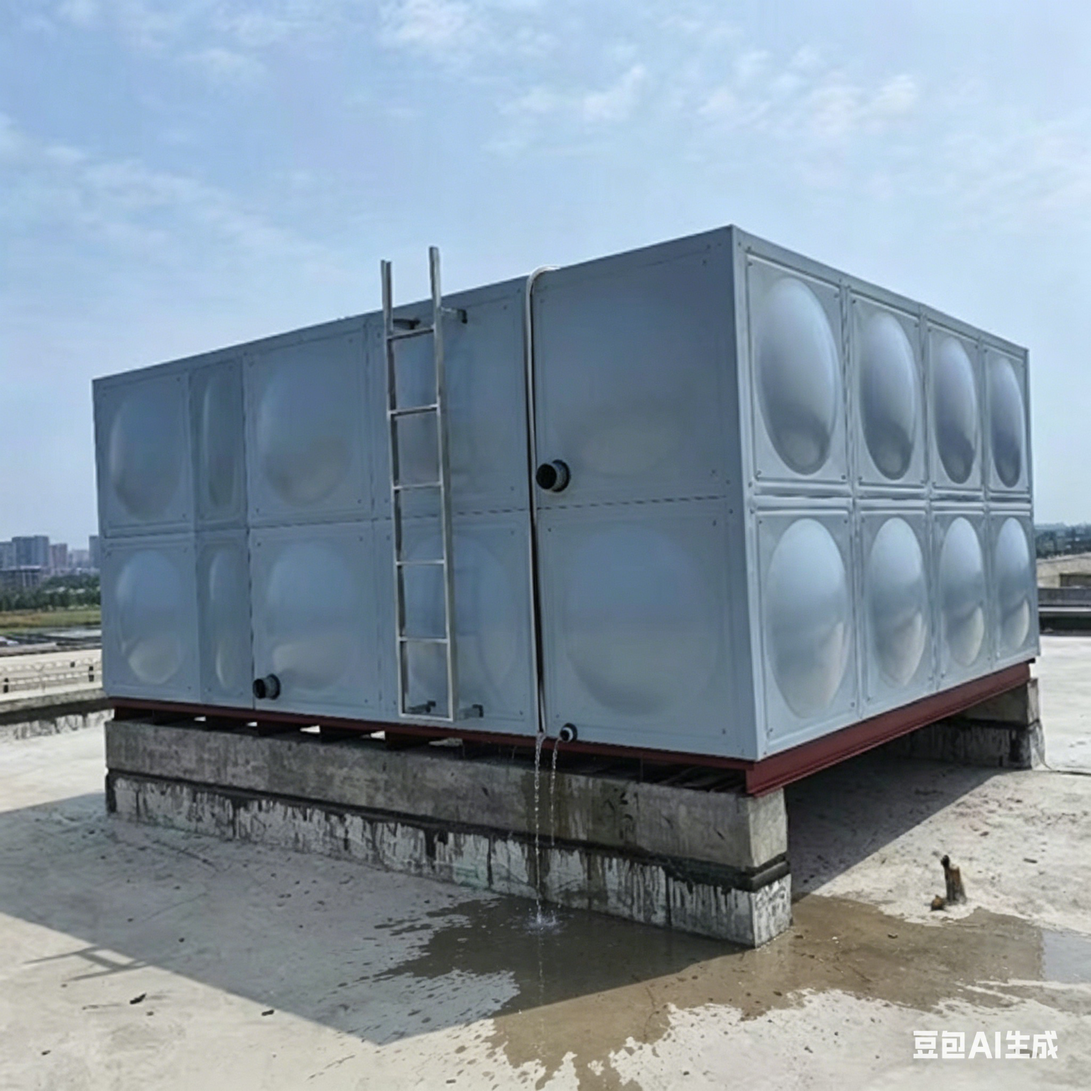Leakage: (632, 925, 1091, 1007), (525, 732, 622, 1069), (419, 870, 521, 965), (798, 886, 908, 923)
